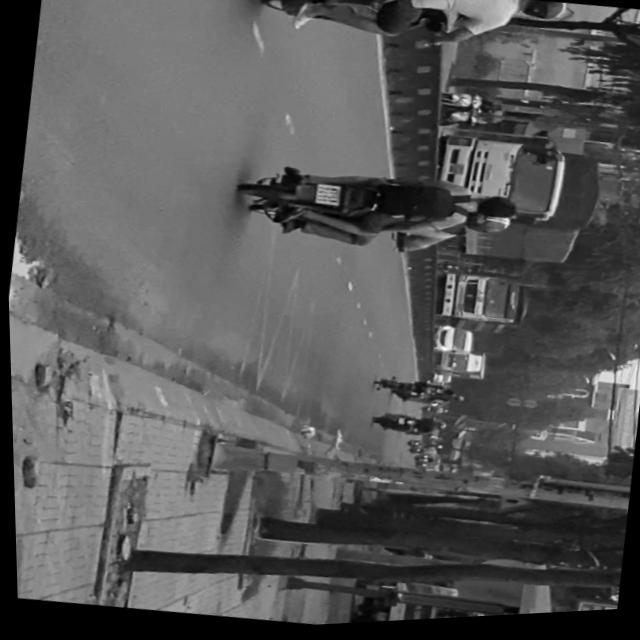helmet: (519, 2, 570, 29), (467, 215, 511, 241)
licenseplate: (232, 147, 523, 275), (241, 0, 573, 72)
motorcyclist: (472, 195, 520, 226)
nohelmet: (314, 186, 339, 209)
